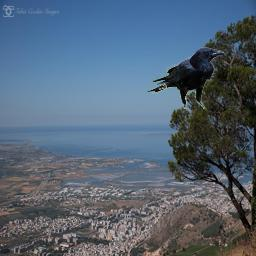Crow: (147, 47, 226, 109)
